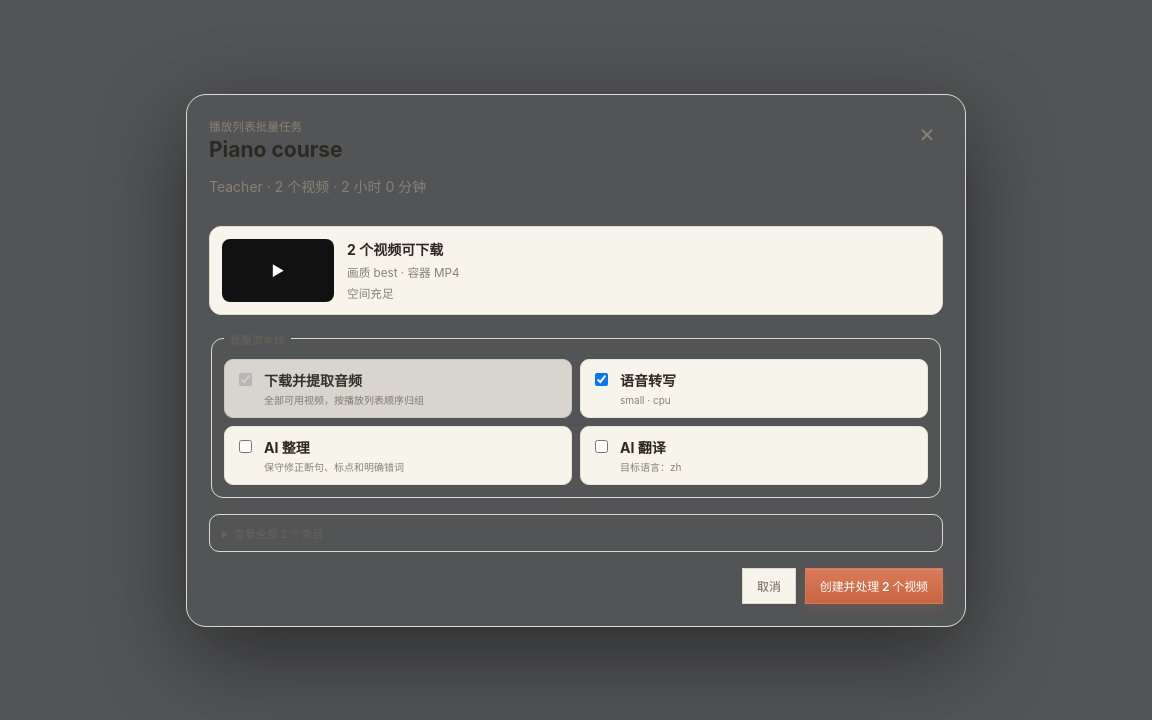
it: playlist batches › checks the assigned provider for each selected AI stage
The width and height of the screenshot is (1152, 720).
Expected: the heading "Piano course" is shown, [209, 136, 342, 162]
Click the checkbox labelled "AI 整理 保守修正断句、标点和明确错词": [246, 446] box [239, 440, 252, 452]
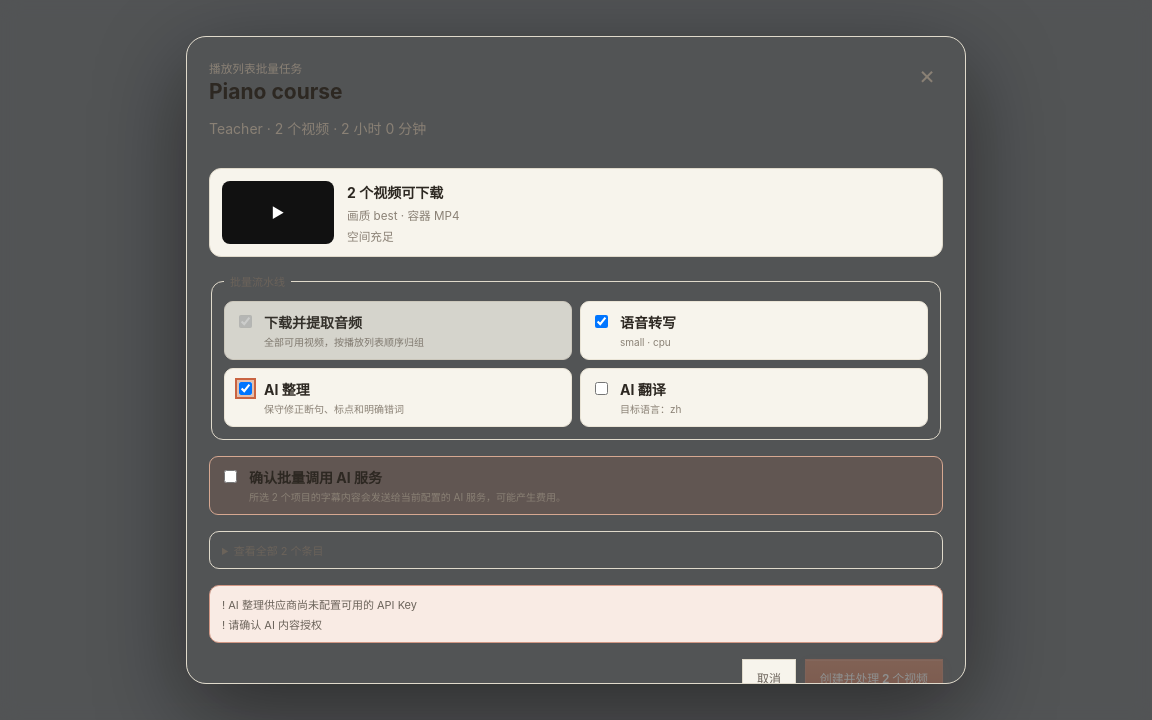
Now the text "! AI 整理供应商尚未配置可用的 API Key" is shown, box [222, 598, 417, 612]
